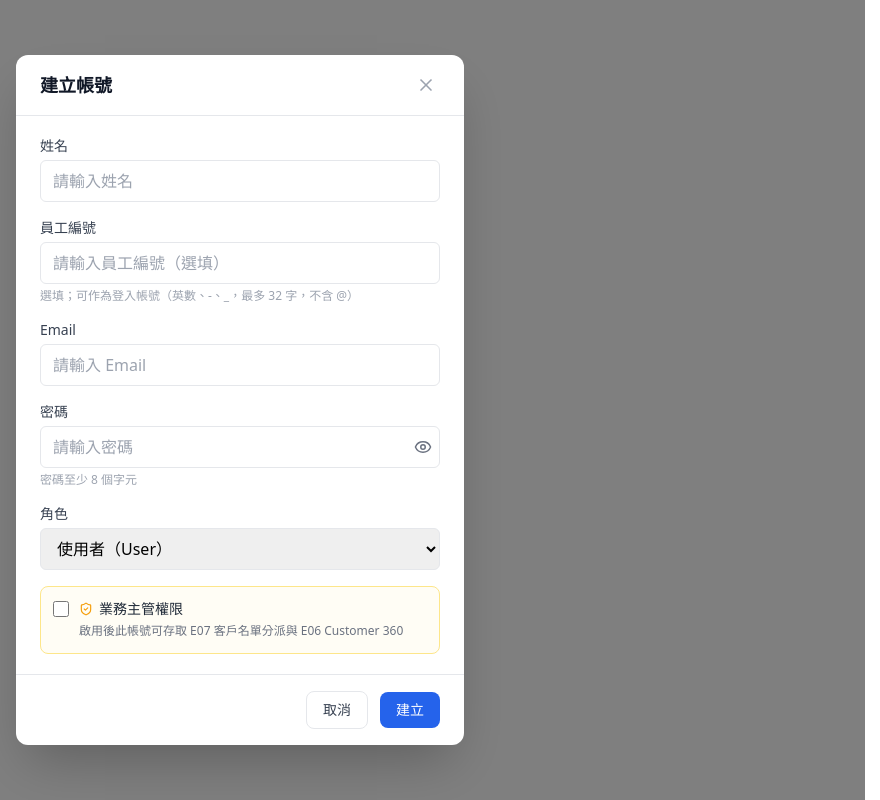
Test: CreateAccountModal › F004 SM: 業務主管旗標 checkbox › 切換 user→admin → checkbox 隱藏並重置
Click the checkbox with test id "create-sales-manager-flag" at (61, 609), box [53,601,69,617]
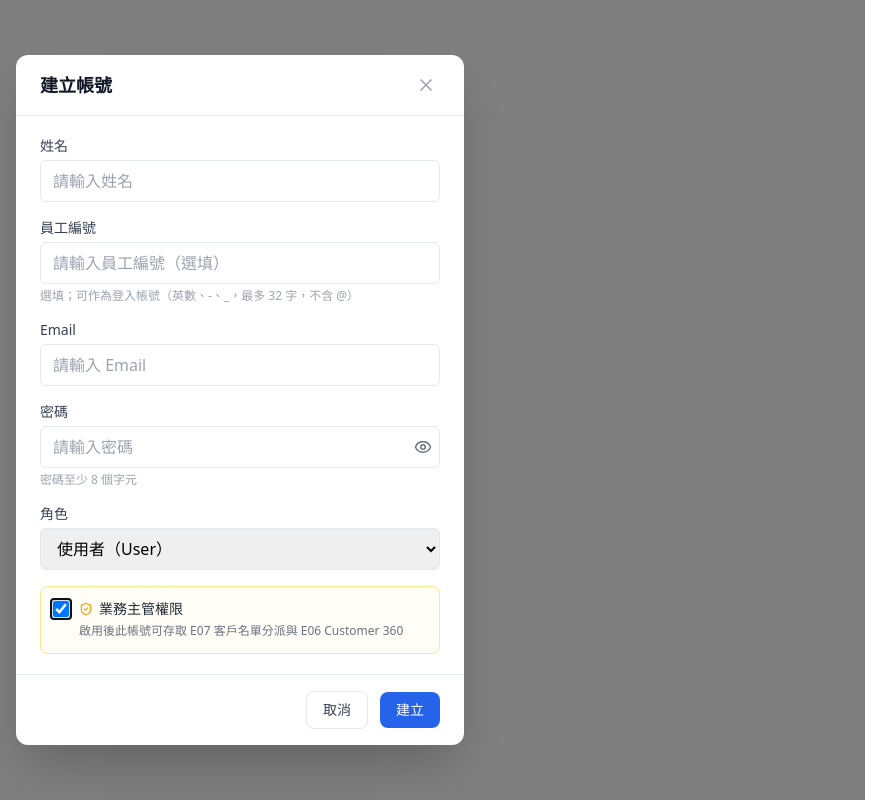
Expected: the checkbox with test id "create-sales-manager-flag" is checked, [53,601,69,617]
Select "管理者（Admin）" in the dropdown labelled "角色" at (240, 549), box [40,528,440,570]
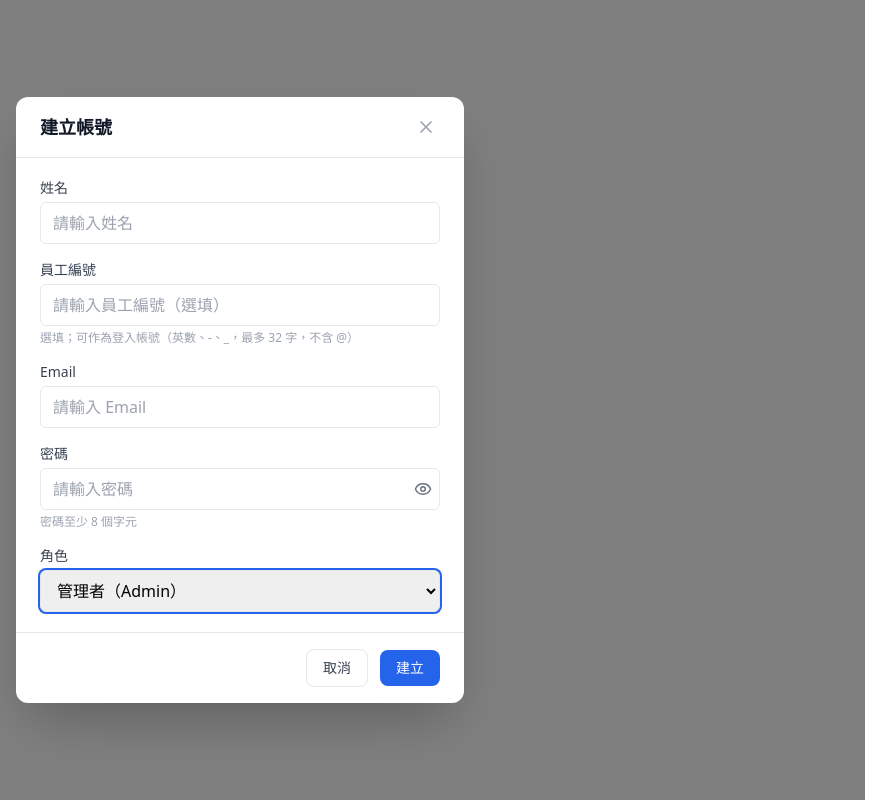
Expected: the element with test id "create-sales-manager-wrap" is gone
